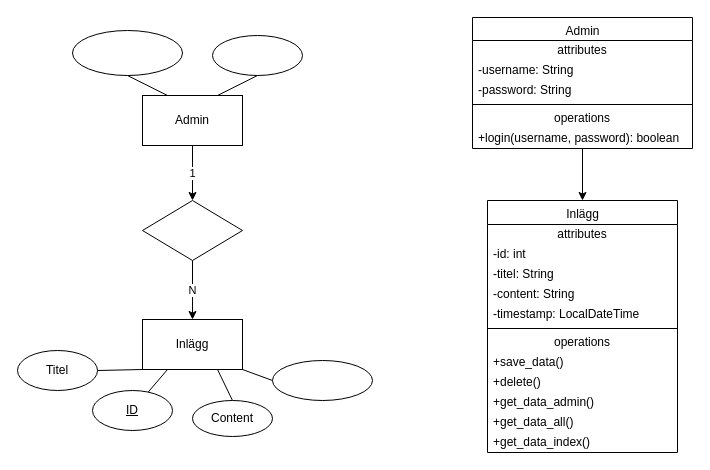
Some shapes in this 710 by 470 pixel diagram are drawn without their labels. The shapes that lost their labels are listed below. From the top down, each one's box as (x1, y1, x2, y2) in pixels, then its label:
(72, 30, 182, 76): Användarnamn
(212, 34, 302, 76): Lösenord
(142, 200, 242, 260): Postar
(272, 360, 372, 400): TId och datum
